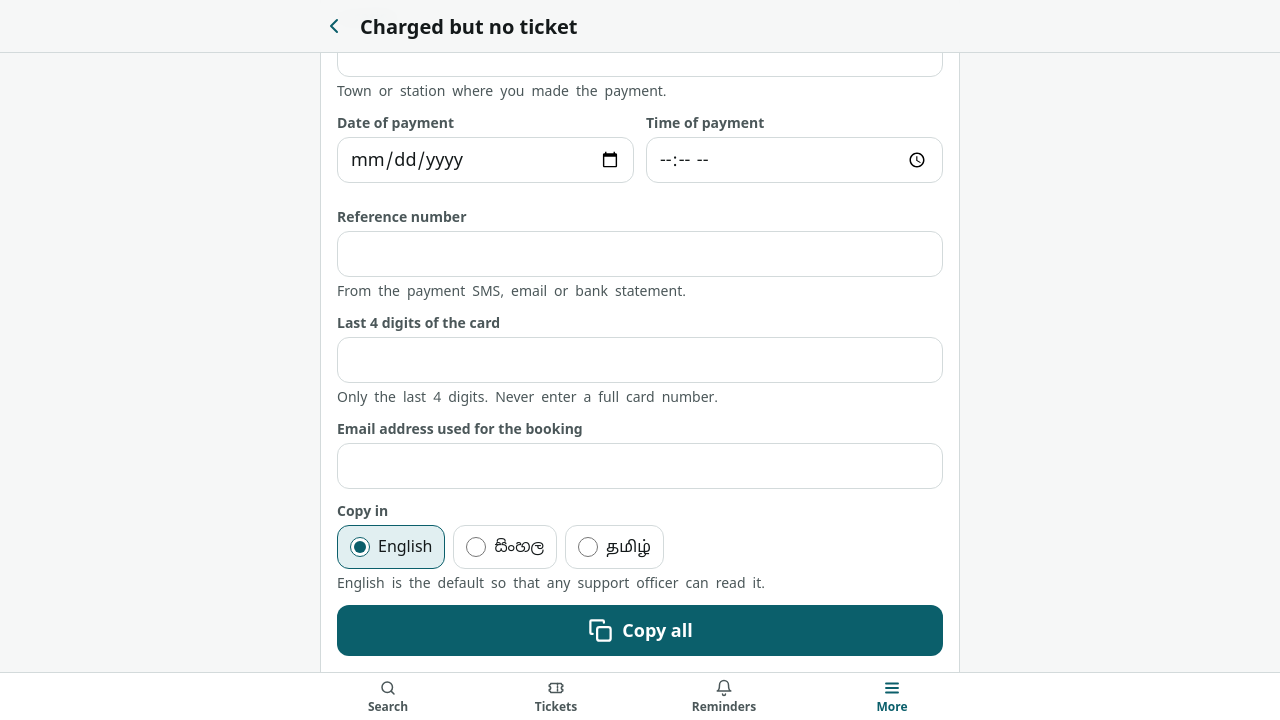
card digits › a fifth typed digit is refused; the first four stay
(page scrolled)
Type "12345" into the field labelled "Last 4 digits of the card" at (640,360), box [337,337,943,383]
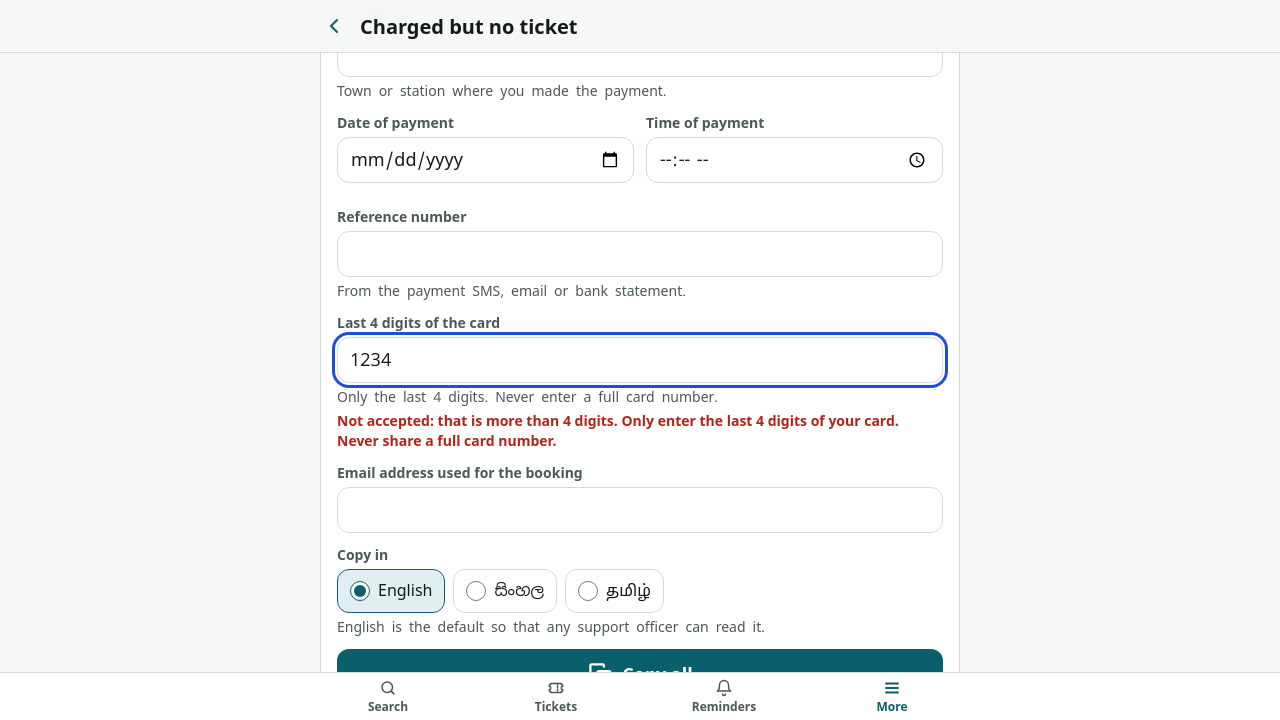
Now the field labelled "Last 4 digits of the card" holds "1234", box [337,337,943,383]
Now the message shows "Not accepted", box [337,411,899,450]
